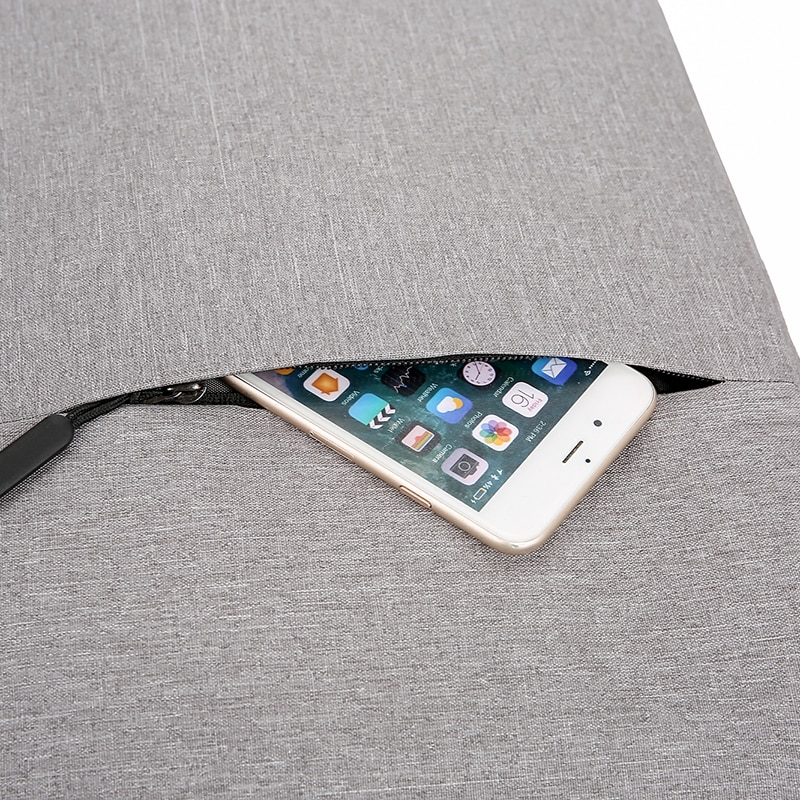Mobiles&Acc|Mobile Phone: (218, 357, 658, 552)
